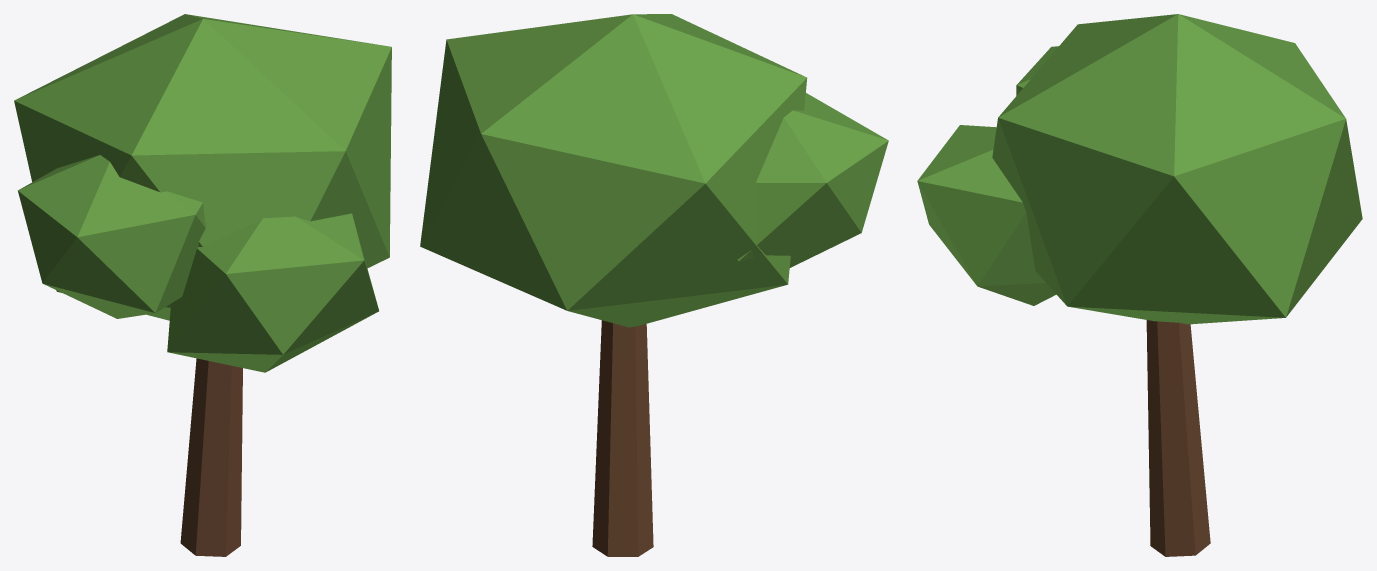
The model's file is Round_A.glb.
The picture shows the model from 3 angles, left to right: view 1: azimuth 30°, elevation 25°; view 2: azimuth 150°, elevation 25°; view 3: azimuth 270°, elevation 25°; orthographic projection.
Parts seen in each view (by area): view 1: Round_A; view 2: Round_A; view 3: Round_A.
Boxes of the visible parts, box(x1,y1,x2,y2) form: Round_A: box(14, 14, 391, 556); Round_A: box(420, 14, 888, 556); Round_A: box(917, 14, 1362, 556).
Bounding box in the file's own units: 3.48 × 4.64 × 3.55.
